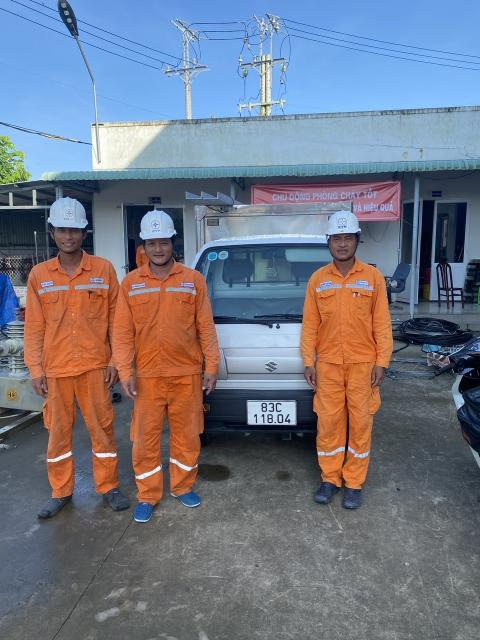helmet: (43, 183, 93, 238), (132, 204, 180, 246), (321, 205, 367, 241)
shoes: (33, 485, 82, 526), (86, 478, 130, 517), (174, 481, 213, 516), (302, 477, 340, 508), (339, 476, 366, 518), (135, 491, 158, 519)
